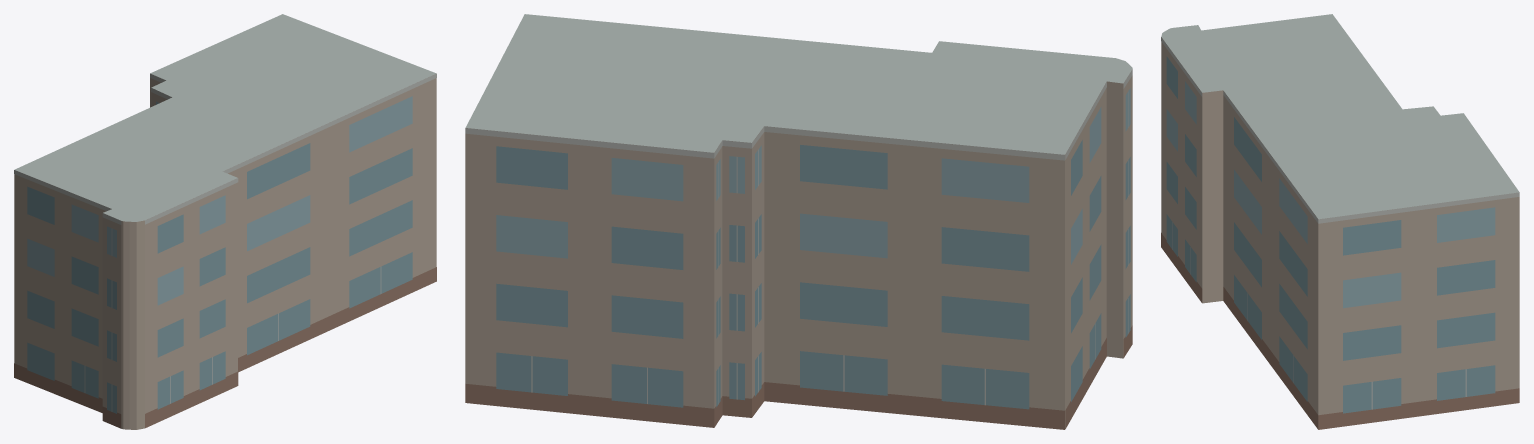
Rendered from survey-upis-32613449.glb.
3 views of the same model, side by side, from view 1: azimuth 30°, elevation 25°; view 2: azimuth 150°, elevation 25°; view 3: azimuth 270°, elevation 25° (orthographic). The views are drawn at different scales.
Parts seen in each view (by area): view 1: survey-upis-32613449.tmp; view 2: survey-upis-32613449.tmp; view 3: survey-upis-32613449.tmp.
Part boxes in pixels (x1,y1,x2,y2): survey-upis-32613449.tmp: [14, 14, 436, 429]; survey-upis-32613449.tmp: [465, 14, 1132, 429]; survey-upis-32613449.tmp: [1161, 14, 1519, 429].
Size of the model in its own units: 24.27 by 11.6 by 17.91.
